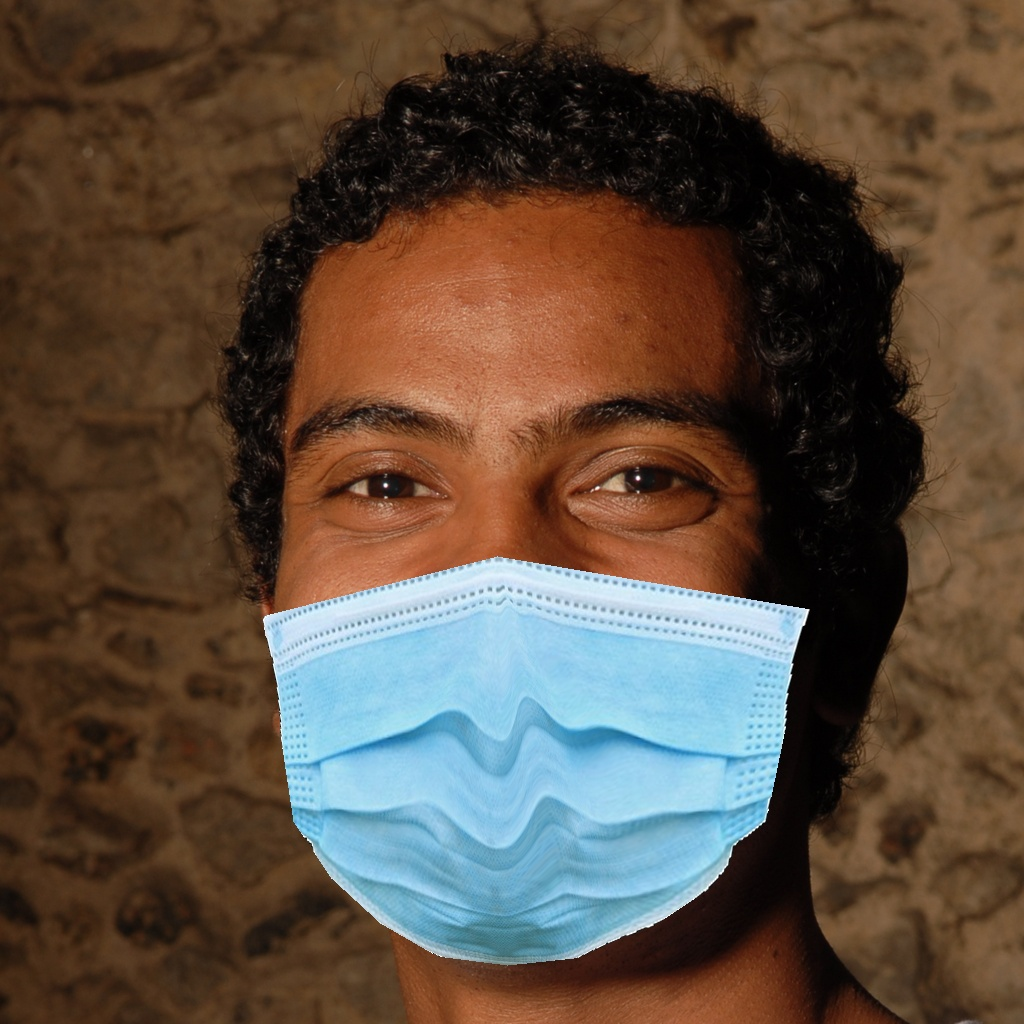Mask: (263, 358, 809, 970)
